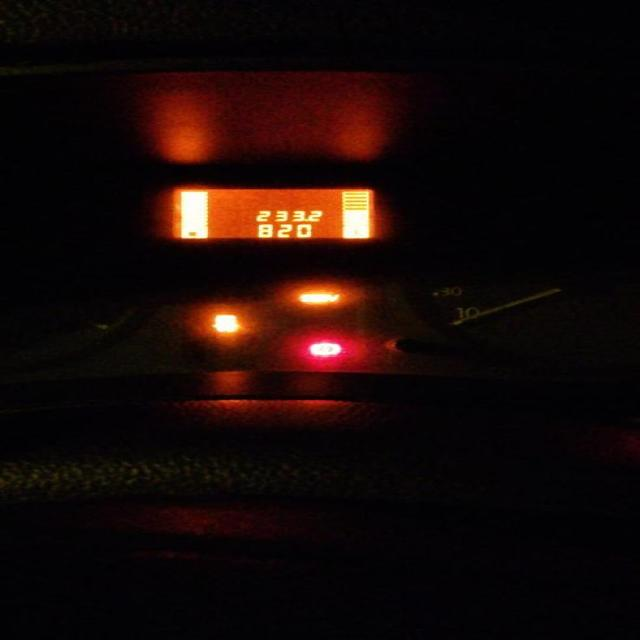odometer: (169, 187, 377, 239)
